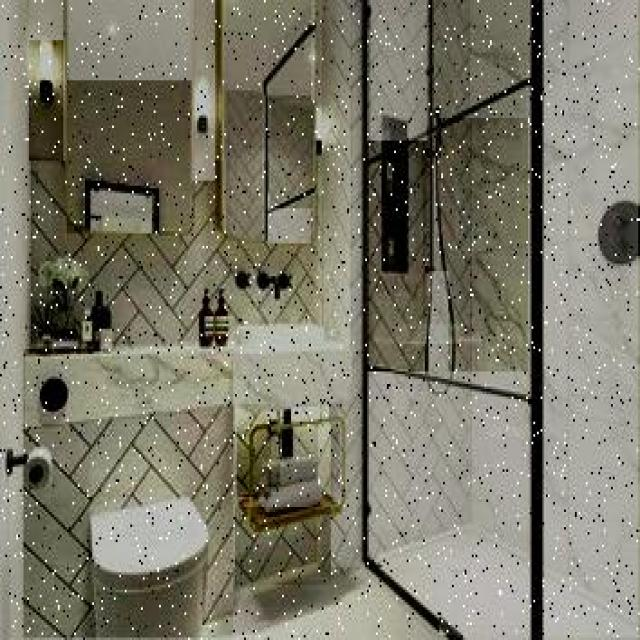Wall: (24, 349, 233, 637), (545, 1, 640, 617), (31, 163, 318, 344), (369, 373, 528, 555), (440, 90, 528, 394), (323, 0, 360, 570), (68, 83, 191, 233), (204, 568, 439, 637), (379, 531, 528, 635), (69, 0, 190, 118), (368, 141, 428, 371), (435, 0, 528, 118), (372, 0, 427, 156), (224, 0, 311, 95), (236, 508, 331, 585), (545, 576, 640, 637), (225, 92, 264, 238), (271, 102, 315, 207), (30, 39, 63, 161), (193, 0, 215, 181), (294, 425, 340, 499), (237, 406, 271, 497), (269, 35, 311, 103), (92, 192, 152, 233), (268, 195, 311, 243), (430, 271, 448, 376), (30, 0, 63, 40), (255, 437, 280, 487), (294, 408, 318, 422)
